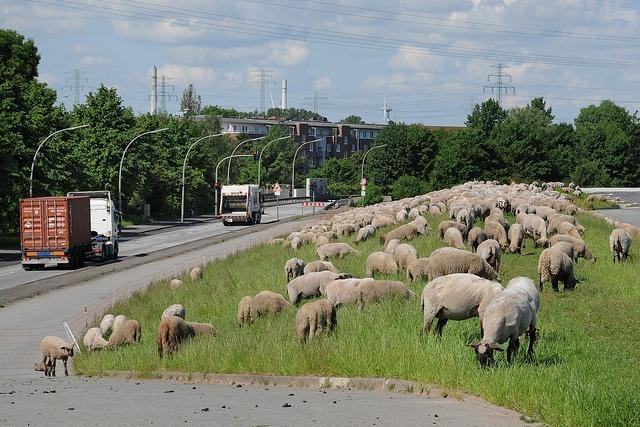truck: (19, 191, 123, 268), (219, 184, 264, 227)
